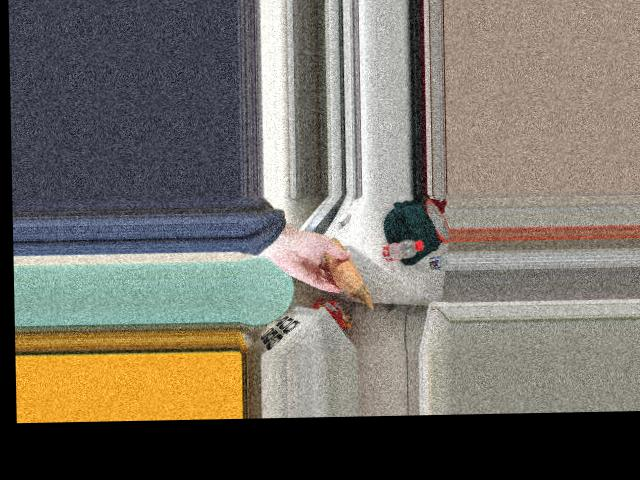sweet_potato: (318, 244, 363, 291)
